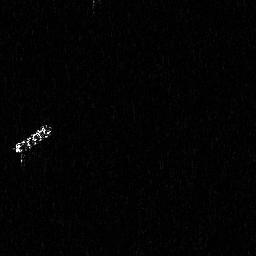ship: (11, 120, 55, 169)
